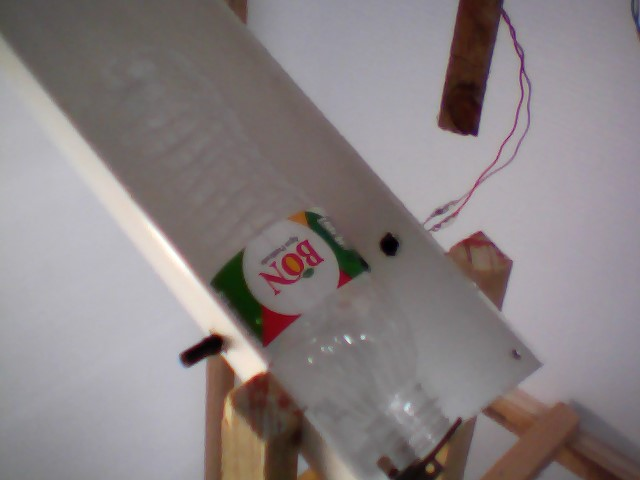plastico: (72, 29, 468, 476)
